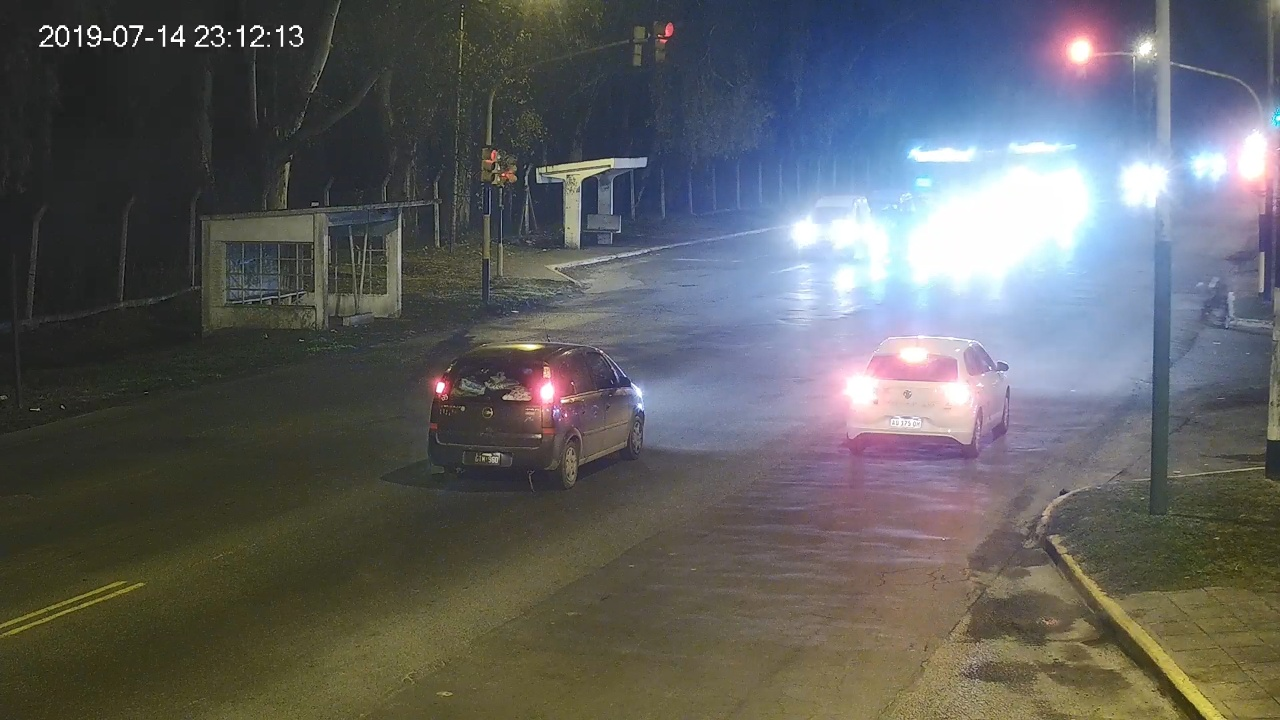car: (428, 342, 646, 487), (846, 336, 1011, 456)
traffic light: (1074, 39, 1091, 79)
